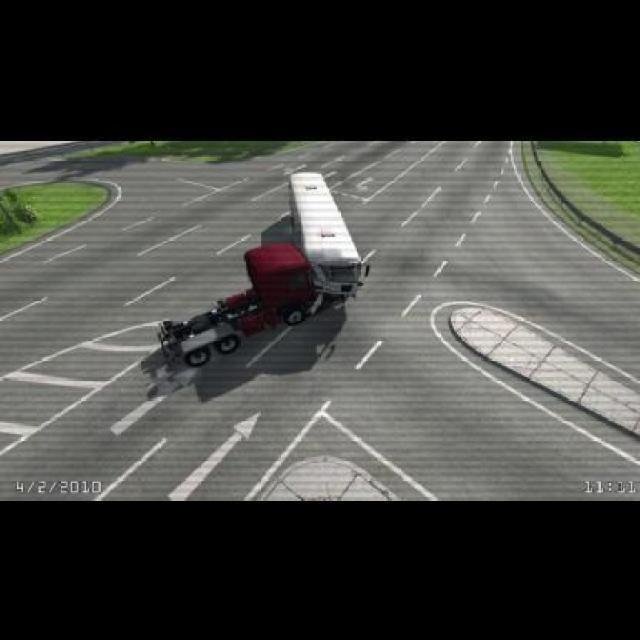accident: (263, 245, 365, 318)
